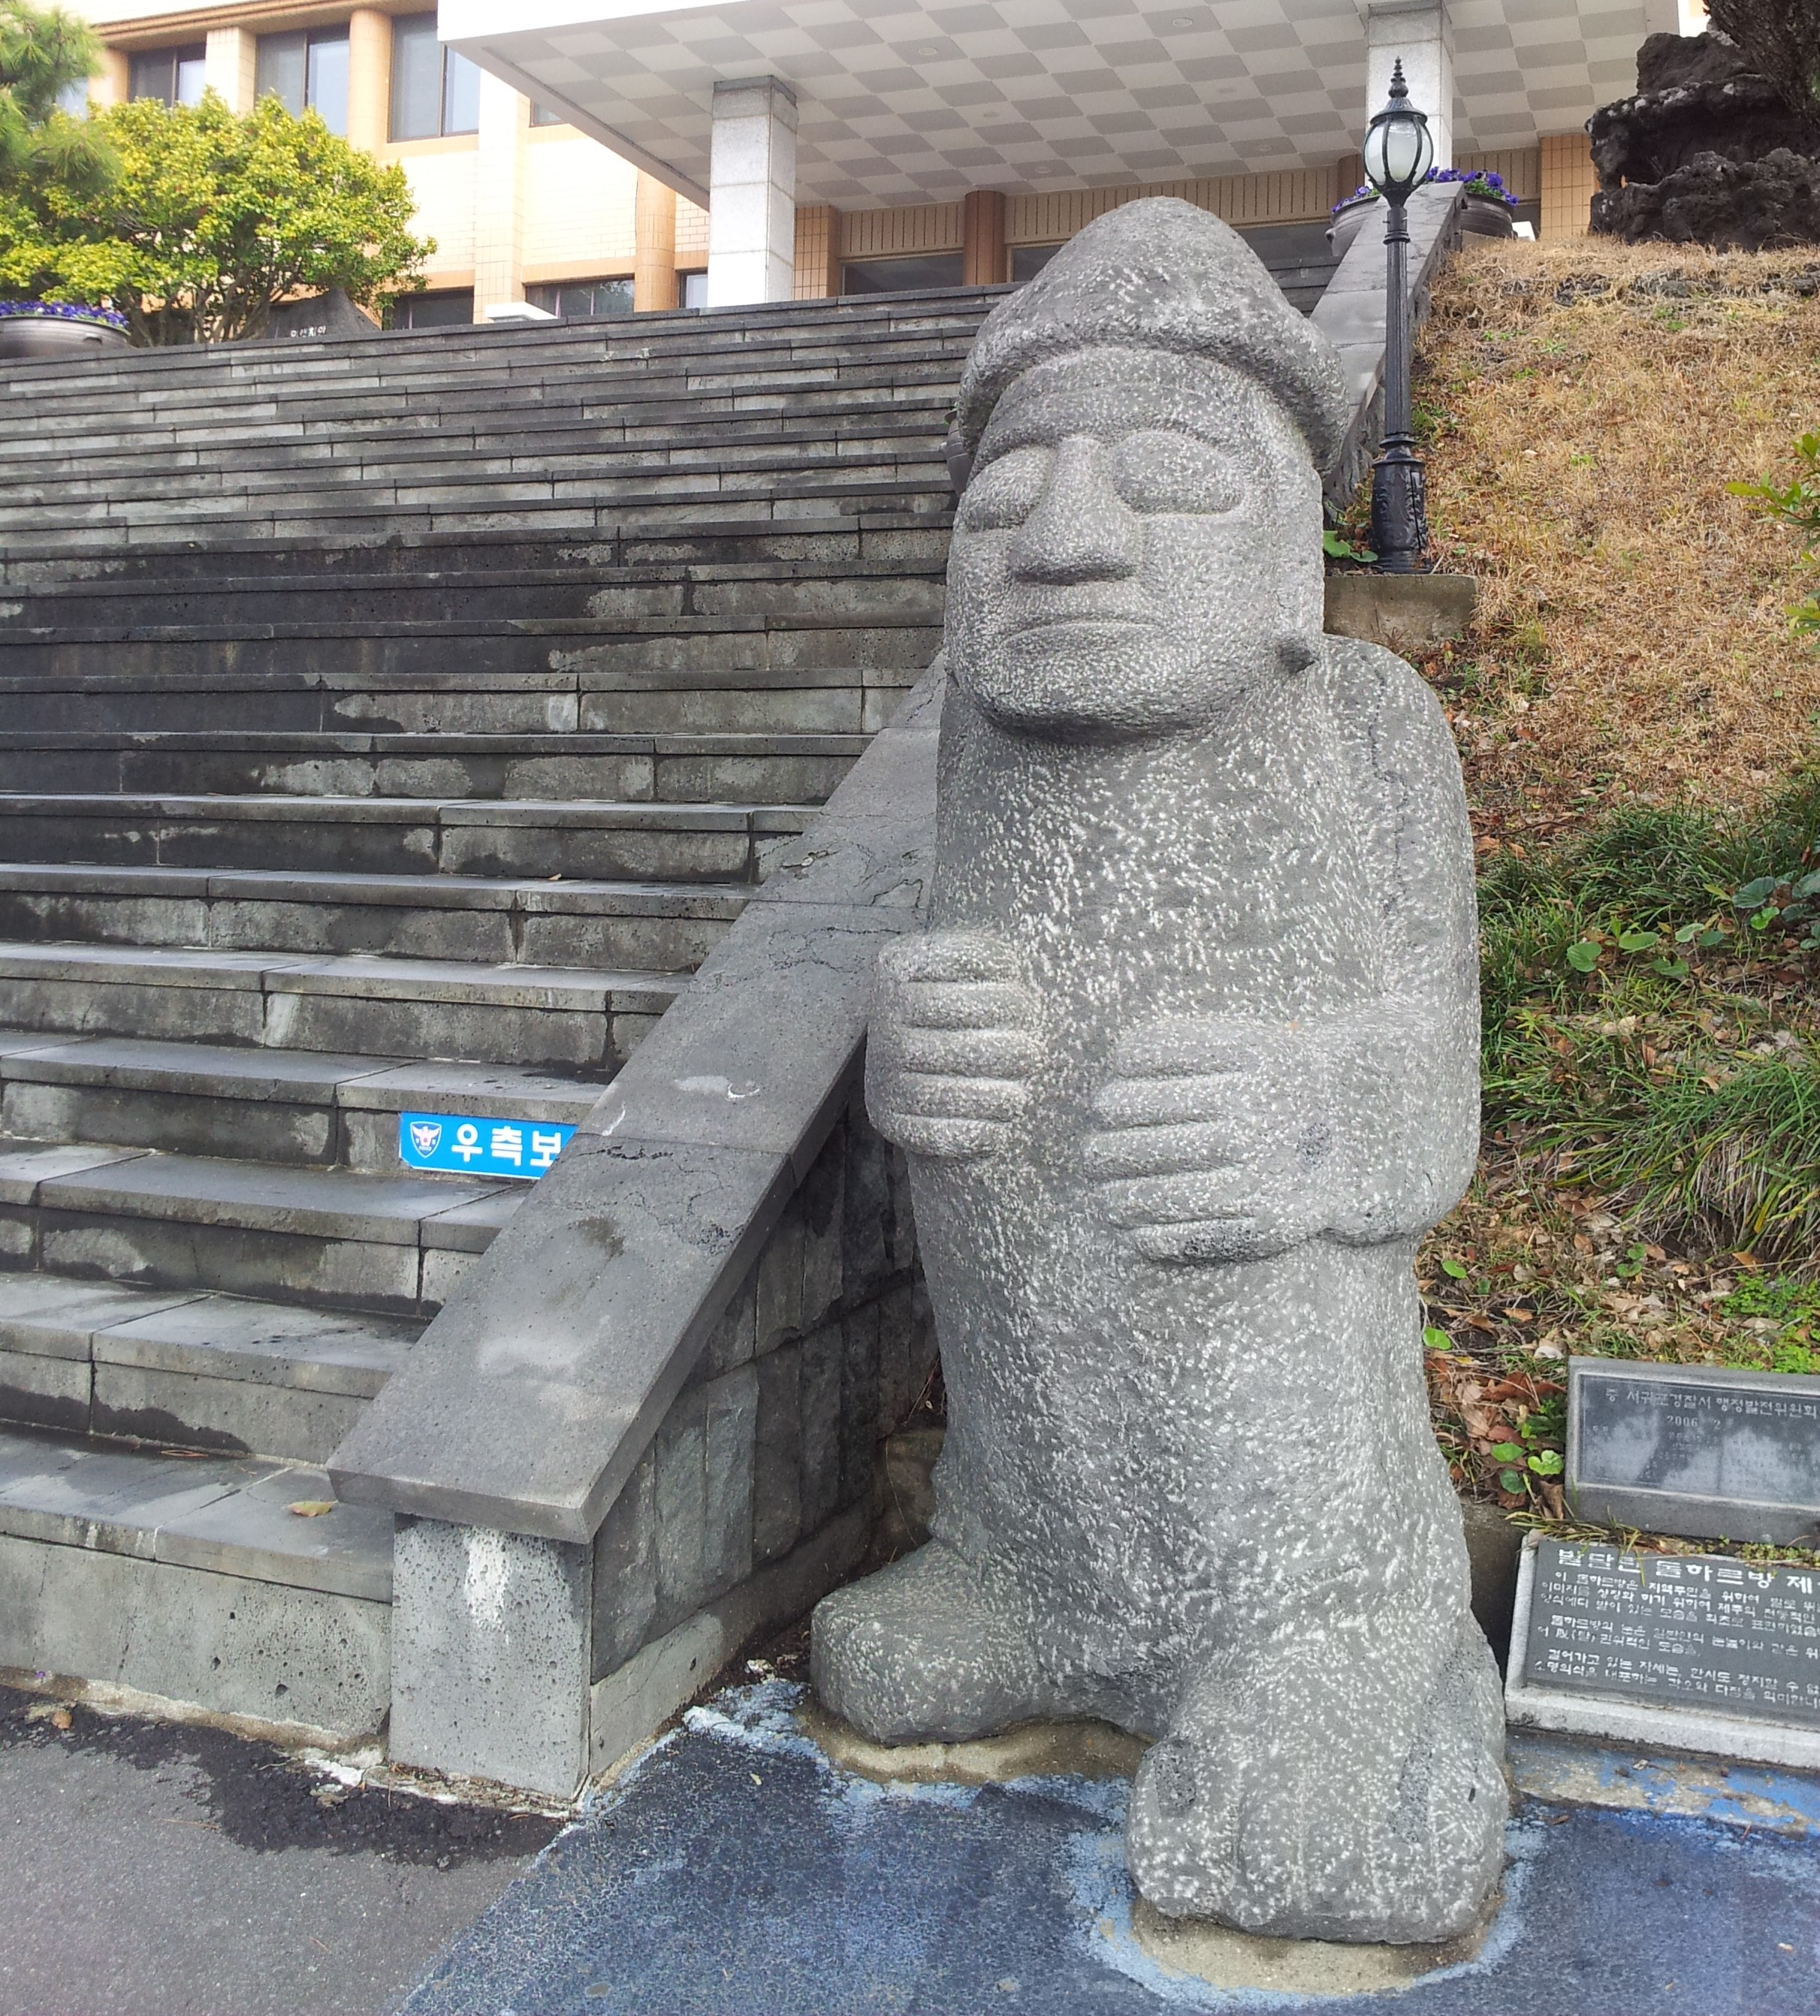Stone Statue: (771, 167, 1576, 1977)
